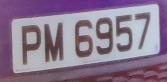5: (113, 10, 136, 58)
6: (71, 14, 97, 65)
7: (133, 9, 155, 55)
9: (94, 11, 117, 61)
M: (42, 18, 68, 68)
P: (18, 21, 44, 70)
